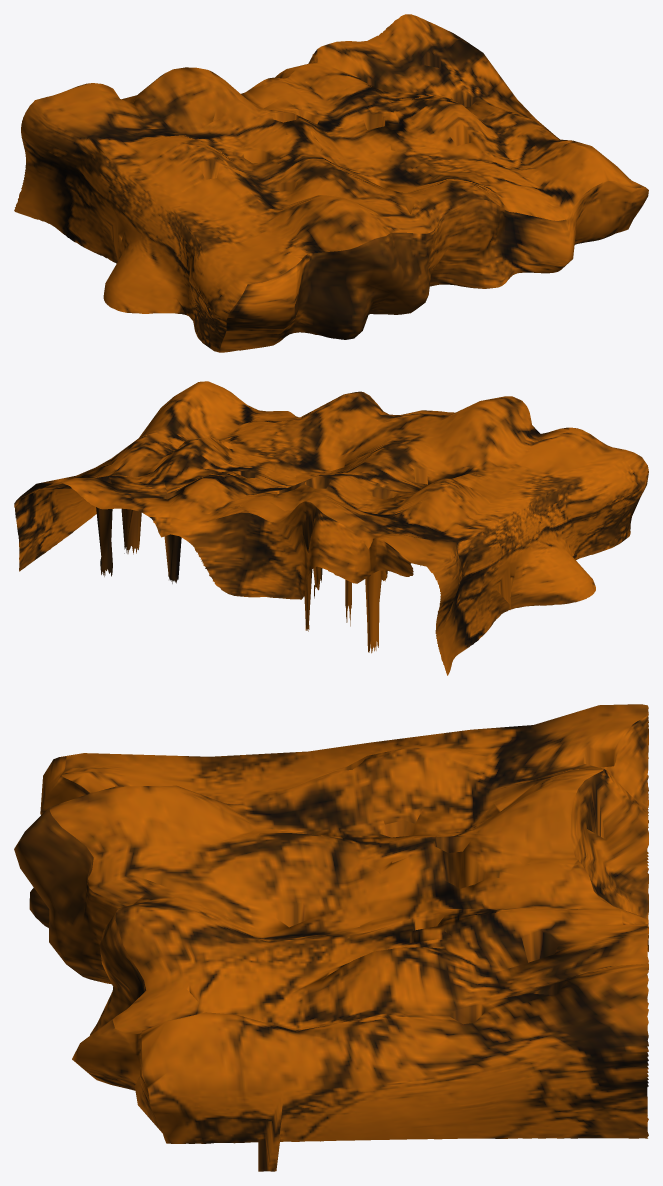
File: caves.gltf
3 views of the same model, one above another, from view 1: azimuth 30°, elevation 25°; view 2: azimuth 150°, elevation 25°; view 3: azimuth 270°, elevation 25° (orthographic). The views are drawn at different scales.
Visible parts, largest first — view 1: pCubeShape5_0; view 2: pCubeShape5_0; view 3: pCubeShape5_0.
Part boxes in pixels (<box>): pCubeShape5_0: <box>14,14,648,352</box>; pCubeShape5_0: <box>14,381,648,675</box>; pCubeShape5_0: <box>14,704,648,1171</box>.
Size of the model in its own units: 9.04 by 2.61 by 7.35.
1 material, 1 textured.
